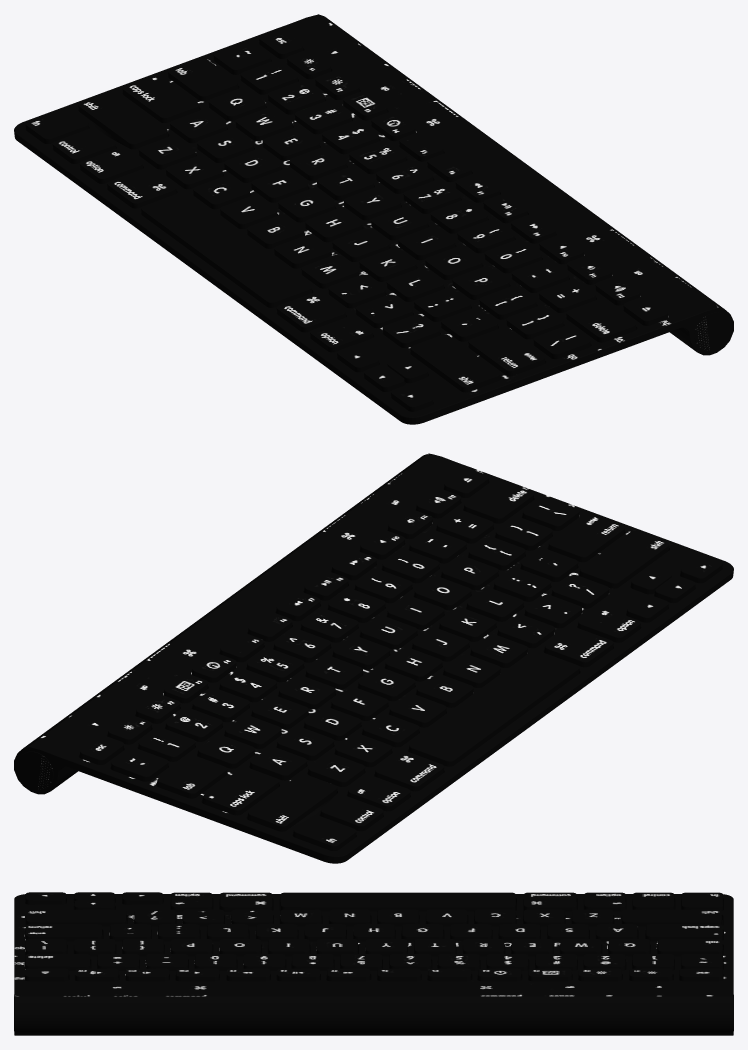
The model's file is keyboard.fbx.
The picture shows the model from 3 angles, top to bottom: view 1: azimuth 30°, elevation 25°; view 2: azimuth 150°, elevation 25°; view 3: azimuth 270°, elevation 25°; orthographic projection. The views are drawn at different scales.
Parts seen in each view (by area): view 1: Apple_Wire, Apple_Wir2, Apple_Wir0; view 2: Apple_Wire, Apple_Wir2, Apple_Wir1; view 3: Apple_Wire, Apple_Wir2.
Boxes of the visible parts, x1=… form: Apple_Wire: x1=25, y1=29, x2=668, y2=411; Apple_Wir2: x1=14, y1=14, x2=733, y2=424; Apple_Wir0: x1=694, y1=312, x2=729, y2=350; Apple_Wire: x1=79, y1=468, x2=722, y2=850; Apple_Wir2: x1=14, y1=453, x2=733, y2=863; Apple_Wir1: x1=18, y1=751, x2=53, y2=789; Apple_Wire: x1=25, y1=892, x2=723, y2=981; Apple_Wir2: x1=14, y1=894, x2=733, y2=1035.
Size of the model in its own units: 0.14 by 0.0191 by 0.2987.
1 material, 1 textured.
